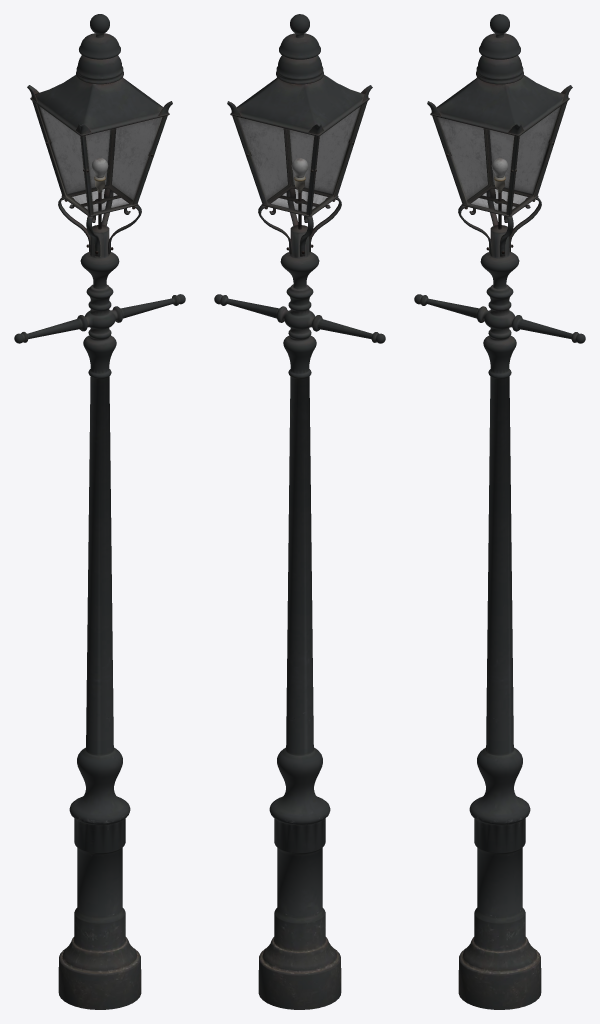
File: street_lamp_01.glb
3 renders of one model, left to right at view 1: azimuth 30°, elevation 25°; view 2: azimuth 150°, elevation 25°; view 3: azimuth 330°, elevation 25°, orthographic.
Parts seen in each view (by area): view 1: street_lamp_01; view 2: street_lamp_01; view 3: street_lamp_01.
Part boxes in pixels (x1=…): street_lamp_01: x1=14, y1=14, x2=185, y2=1009; street_lamp_01: x1=214, y1=14, x2=385, y2=1009; street_lamp_01: x1=414, y1=14, x2=585, y2=1009.
Bounding box in the file's own units: 0.704 × 3.87 × 0.3865.
2 materials, 2 textured.
